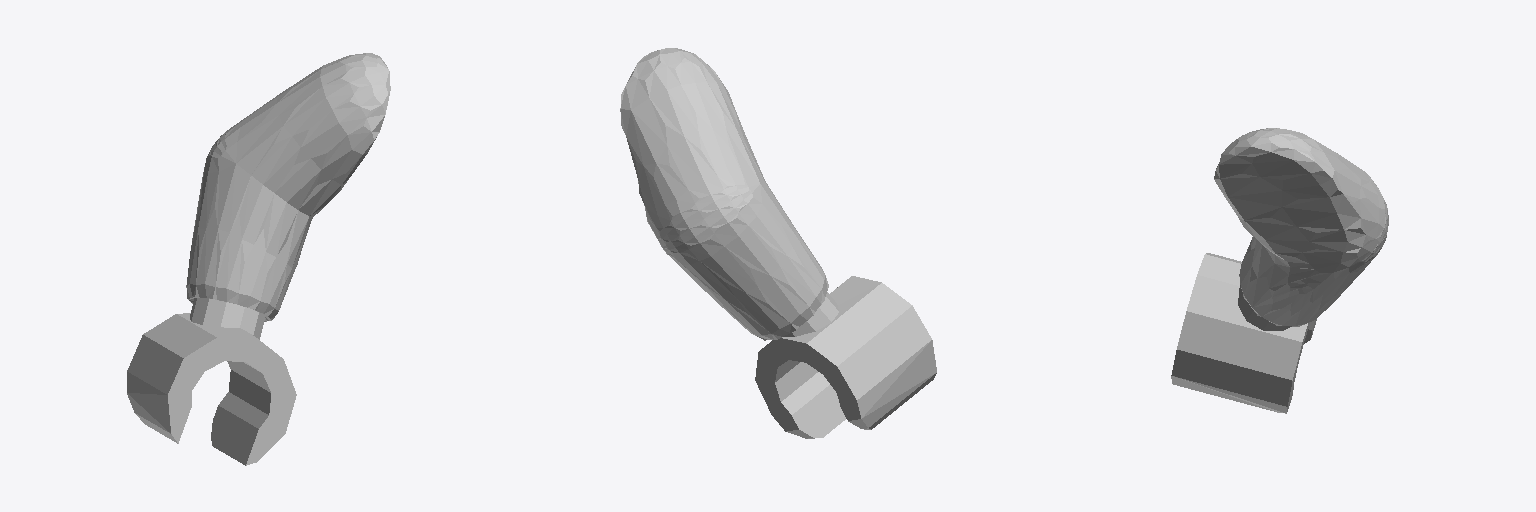
Rendered from brazoIzq.obj.
3 renders of one model, left to right at view 1: azimuth 30°, elevation 25°; view 2: azimuth 150°, elevation 25°; view 3: azimuth 270°, elevation 25°, orthographic.
Parts seen in each view (by area): view 1: brazoIzq:BrazoIzq; view 2: brazoIzq:BrazoIzq; view 3: brazoIzq:BrazoIzq.
Part boxes in pixels (left/top/right/bottom): brazoIzq:BrazoIzq: left=127, top=53, right=390, bottom=465; brazoIzq:BrazoIzq: left=620, top=48, right=936, bottom=438; brazoIzq:BrazoIzq: left=1171, top=128, right=1388, bottom=413.
Bounding box in the file's own units: 0.1623 × 0.2132 × 0.1201.